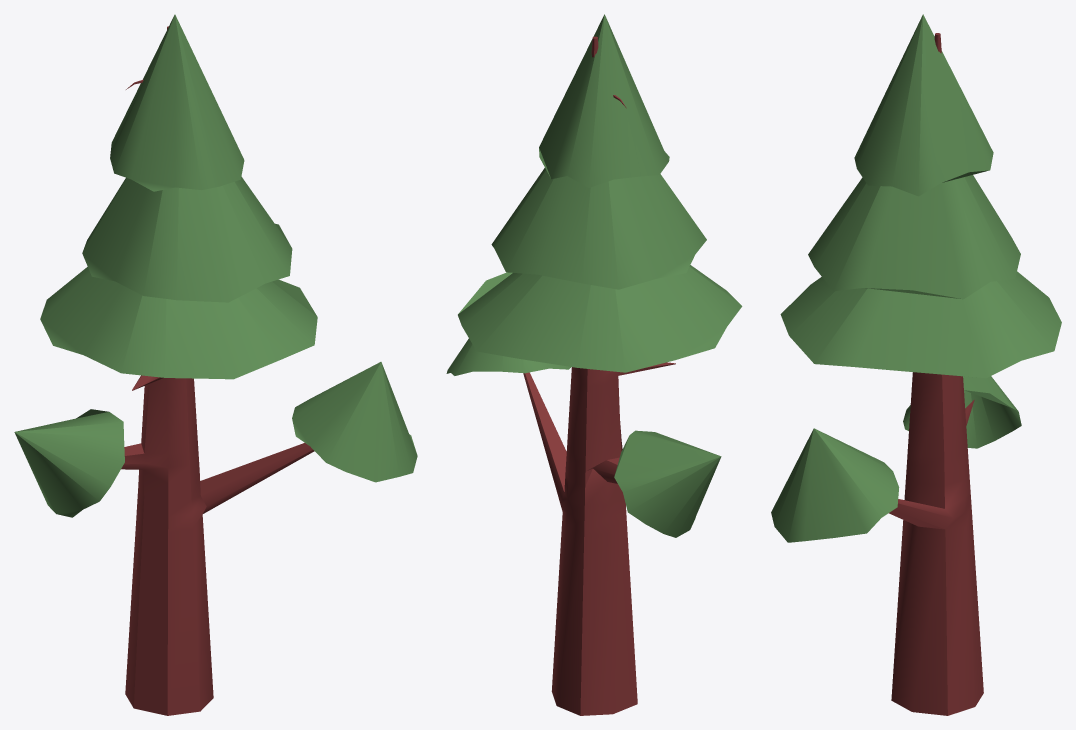
File: pine_03.glb
3 renders of one model, left to right at view 1: azimuth 30°, elevation 25°; view 2: azimuth 150°, elevation 25°; view 3: azimuth 270°, elevation 25°, orthographic.
Parts seen in each view (by area): view 1: default2_Material_0; view 2: default2_Material_0; view 3: default2_Material_0.
Boxes of the visible parts, x1,y1,x2,y2 form: default2_Material_0: [14, 14, 417, 715]; default2_Material_0: [446, 14, 742, 715]; default2_Material_0: [771, 14, 1061, 715].
Size of the model in its own units: 0.0403 by 0.08 by 0.0309.
1 material, 1 textured.
